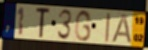1: (17, 7, 25, 37)
3: (57, 8, 73, 41)
A: (111, 13, 134, 45)
G: (73, 9, 93, 43)
I: (104, 12, 111, 44)
T: (35, 7, 51, 39)
